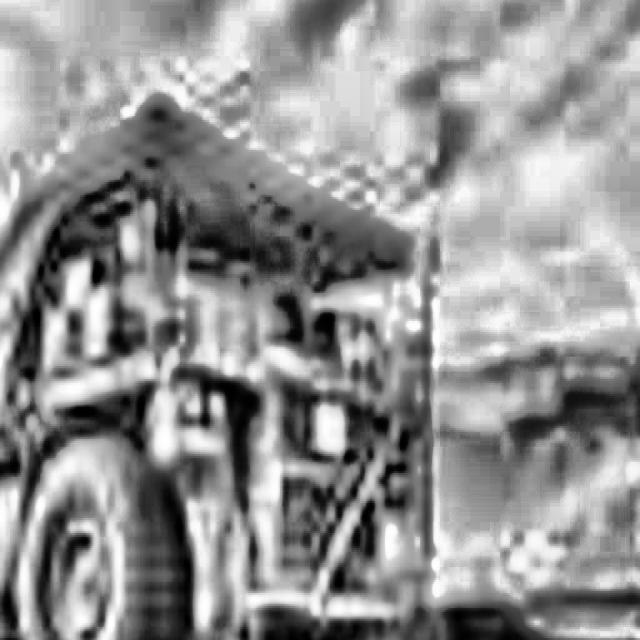dump_truck: (0, 58, 452, 640)
